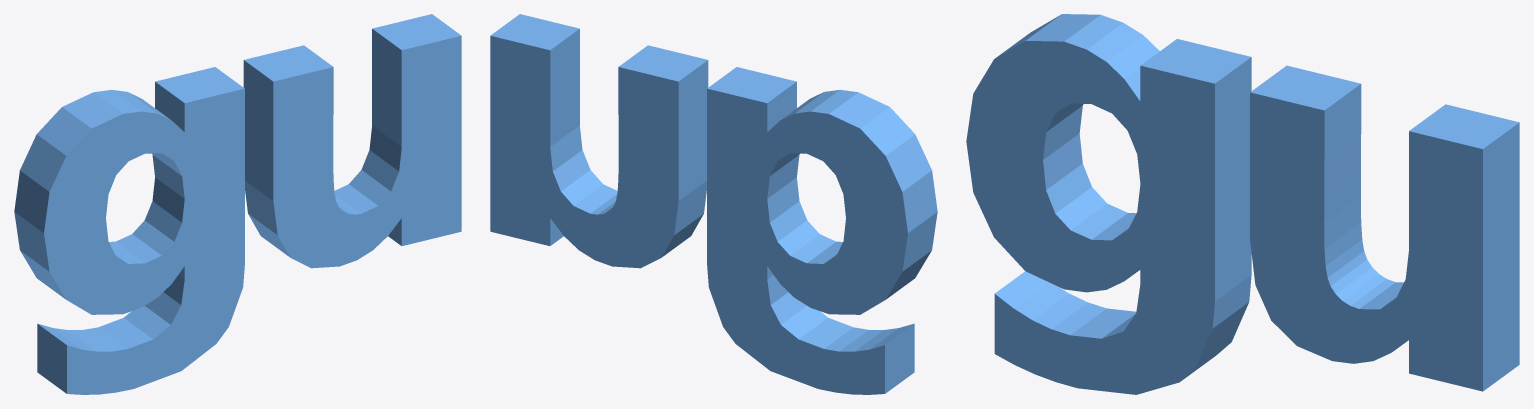
Rendered from suku_kecil_gu.glb.
3 renders of one model, left to right at view 1: azimuth 30°, elevation 25°; view 2: azimuth 150°, elevation 25°; view 3: azimuth 330°, elevation 25°, orthographic. The views are drawn at different scales.
Visible parts, largest first — view 1: geometry_0; view 2: geometry_0; view 3: geometry_0.
Part boxes in pixels (x1,y1,x2,y2): geometry_0: [14, 14, 461, 394]; geometry_0: [490, 14, 937, 394]; geometry_0: [966, 14, 1519, 394].
Bounding box in the file's own units: 12.2 × 7.75 × 1.5.
